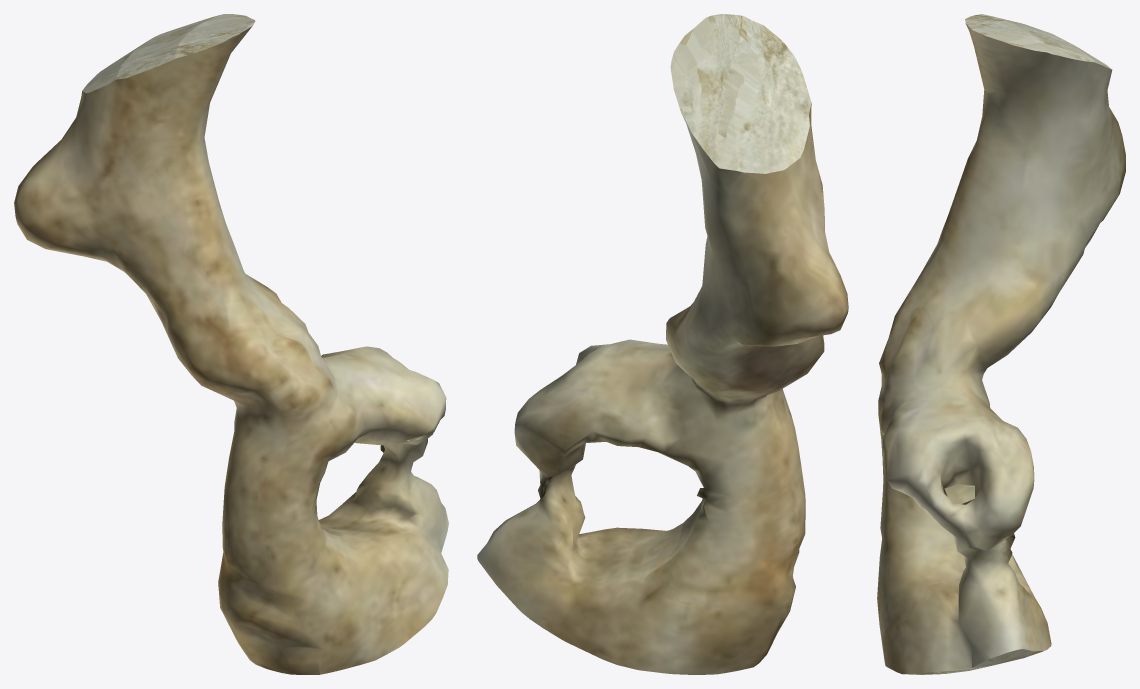
The picture shows the model from 3 angles, left to right: view 1: azimuth 30°, elevation 25°; view 2: azimuth 150°, elevation 25°; view 3: azimuth 270°, elevation 25°; orthographic projection. The views are drawn at different scales.
Parts seen in each view (by area): view 1: Mesh_0.001; view 2: Mesh_0.001; view 3: Mesh_0.001.
Part boxes in pixels (x1,y1,x2,y2): Mesh_0.001: (14,14,448,674); Mesh_0.001: (477,14,848,674); Mesh_0.001: (877,14,1125,674).
Size of the model in its own units: 0.0394 by 0.0611 by 0.023.
1 material, 1 textured.
